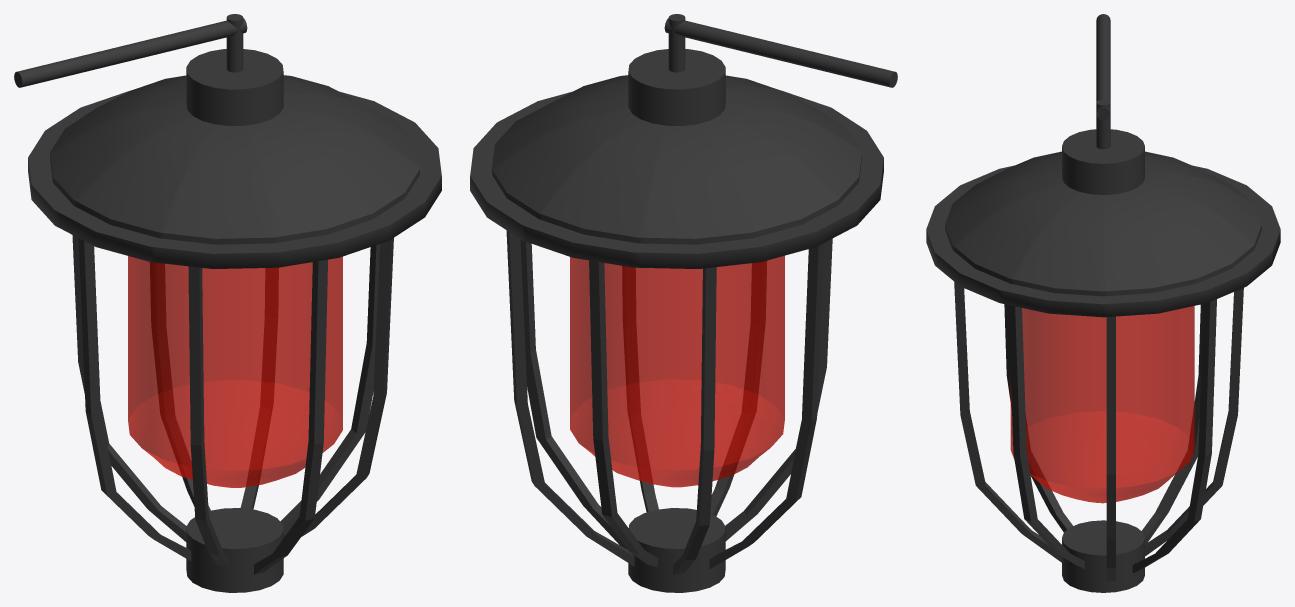
Rendered from Light.fbx.
The picture shows the model from 3 angles, left to right: view 1: azimuth 30°, elevation 25°; view 2: azimuth 150°, elevation 25°; view 3: azimuth 270°, elevation 25°; orthographic projection. The views are drawn at different scales.
Visible parts, largest first — view 1: LightSurround, Lightbulb; view 2: LightSurround, Lightbulb; view 3: LightSurround, Lightbulb.
Part boxes in pixels (x1,y1,x2,y2): LightSurround: [14, 14, 441, 592]; Lightbulb: [128, 256, 342, 487]; LightSurround: [470, 14, 897, 592]; Lightbulb: [570, 255, 784, 487]; LightSurround: [926, 14, 1280, 592]; Lightbulb: [1010, 306, 1194, 503].
Bounding box in the file's own units: 2.46 × 3.29 × 2.24.
